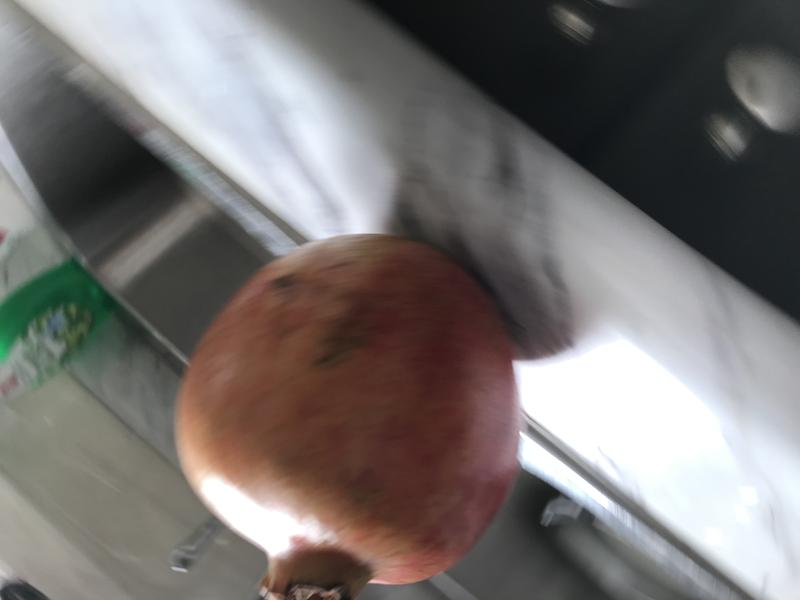pomegranate: (156, 222, 560, 599)
